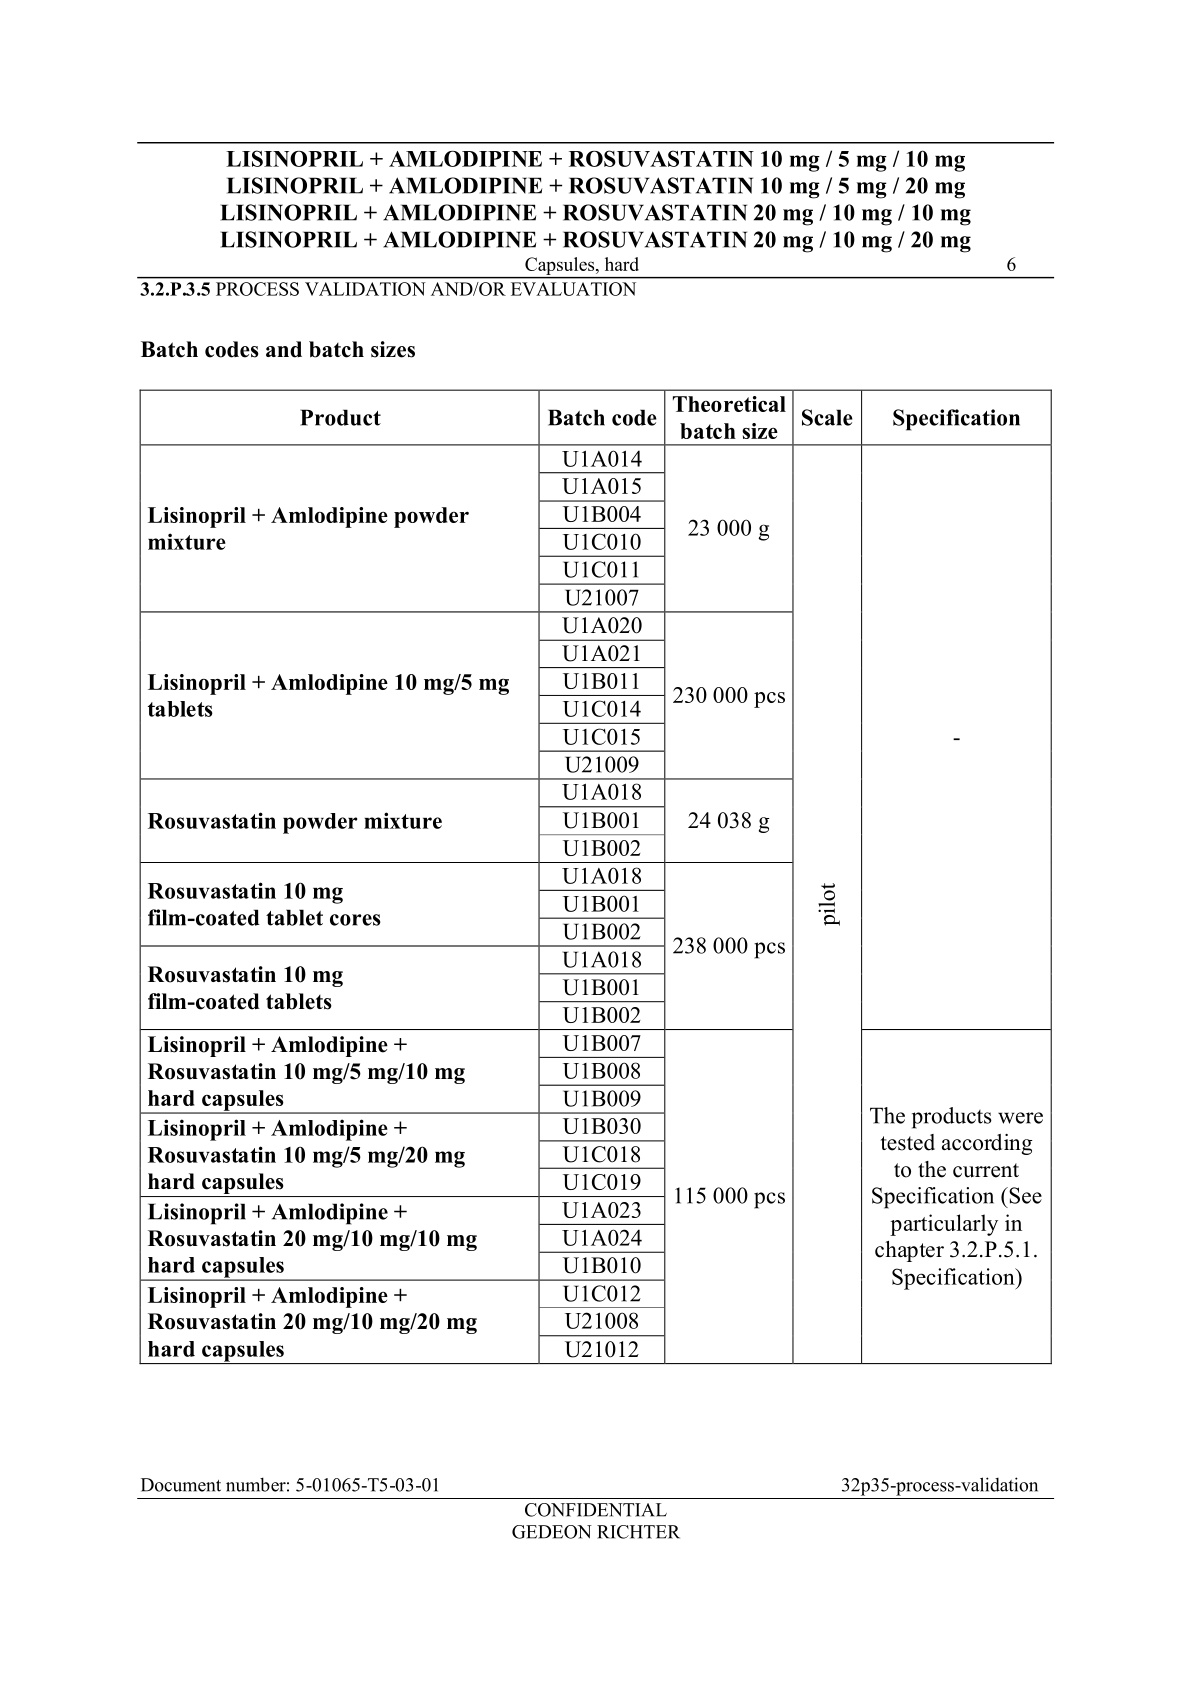merged_cells: (138, 388, 1053, 1364)
